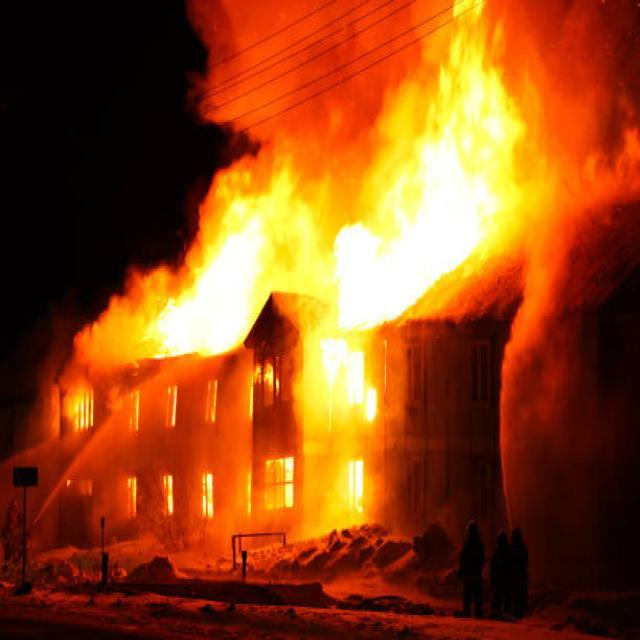Fire: (318, 132, 503, 347), (414, 0, 493, 233), (156, 242, 298, 370), (312, 346, 386, 525)
Smoke: (186, 0, 639, 149), (204, 150, 640, 266)
